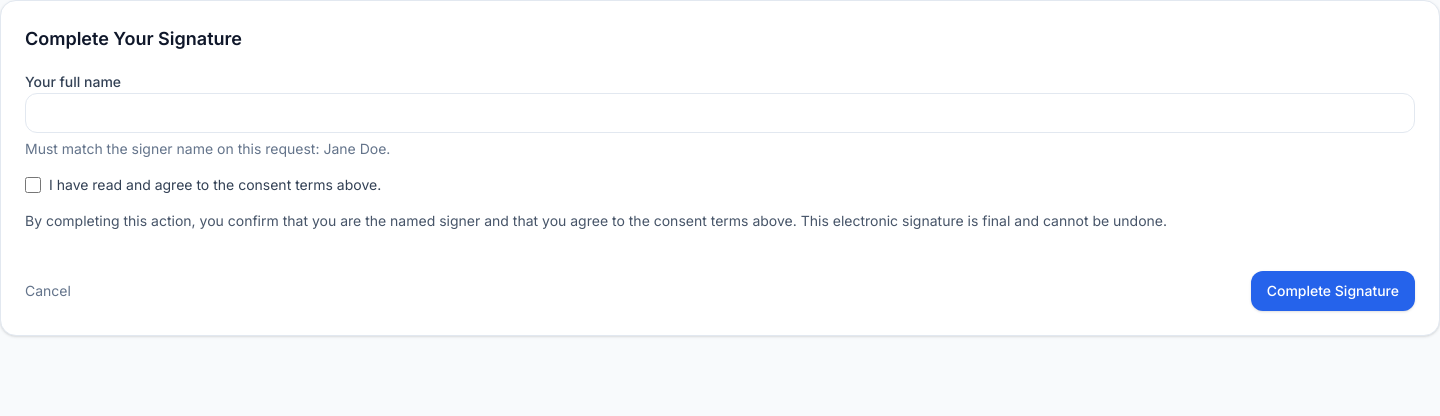
Test: SignatureExecutionForm — server error handling › 9. a server action error appears in the error alert
Type "Wrong Name" into the field labelled "Your full name". click: (720, 113)
box: [25,93,1415,133]
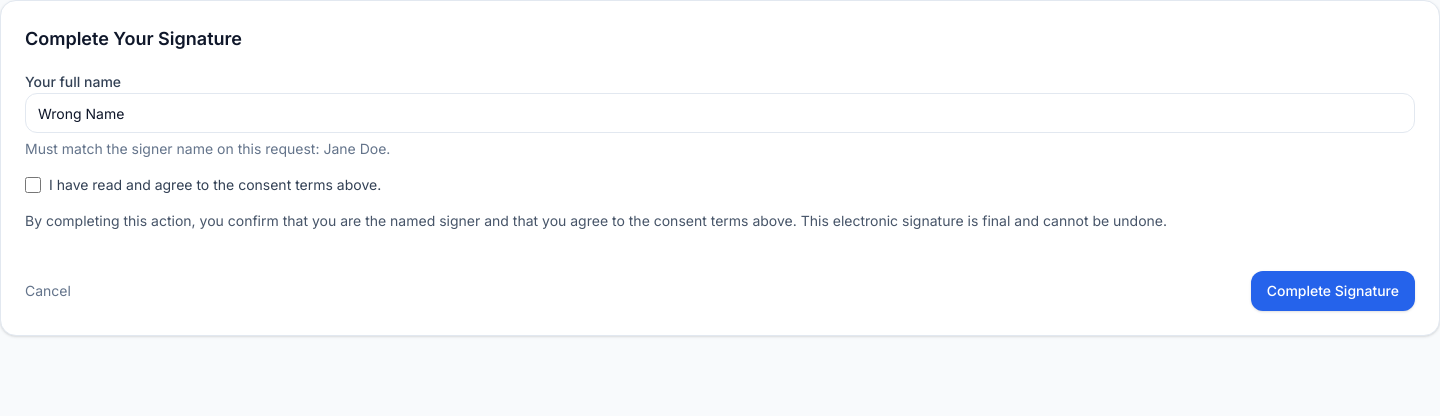
Click the checkbox labelled "I have read and agree to the consent terms above.". click: (33, 185)
box: [25,177,41,193]
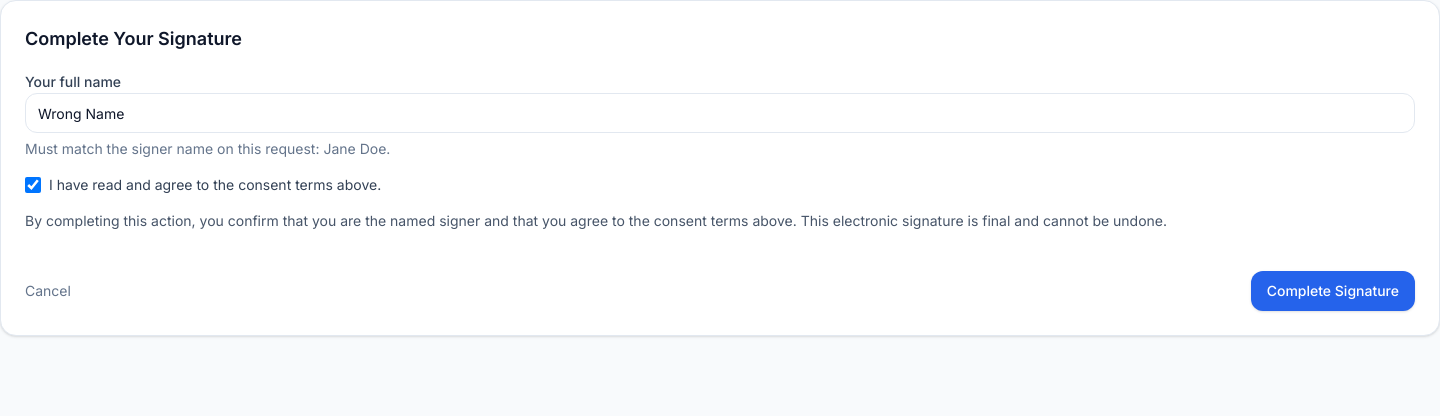
Click the button "Complete Signature". click: (1333, 291)
box: [1251,271,1415,311]
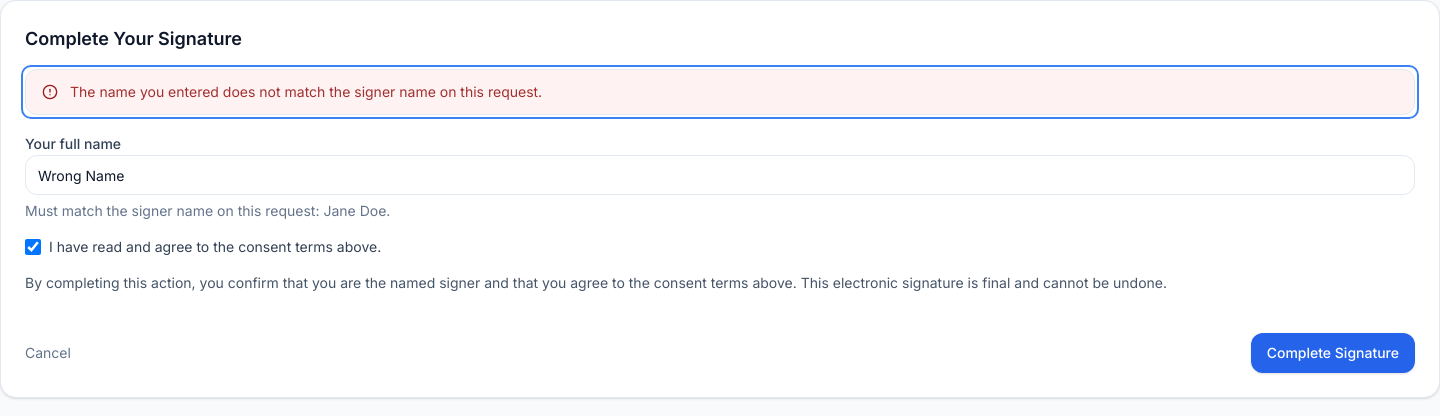
Check: the message "The name you entered does not match the signer name on this request." is shown, box [25,69,1415,115]
Check: the message shows "does not match the signer name", box [70,83,542,100]
